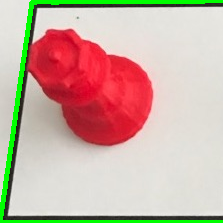Red Queen: (22, 25, 159, 149)
